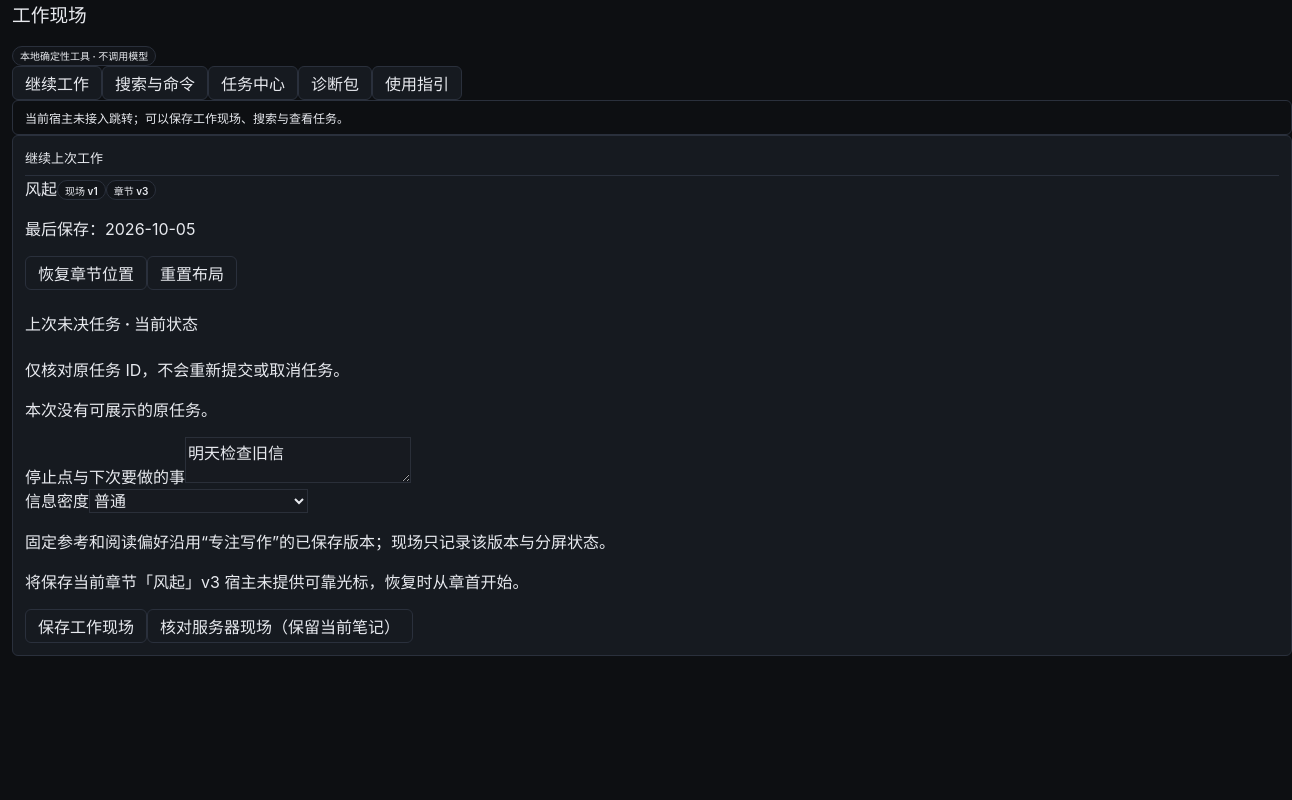
real workspace tools UI › refreshes a conflict without overwriting the pending stopping note
Expected: the text "现场 v1" is shown, [57,180,106,200]
Replace the text in the text box labelled "停止点与下次要做的事" with "我的冲突候选". click: [298, 460]
box: [185,437,411,483]
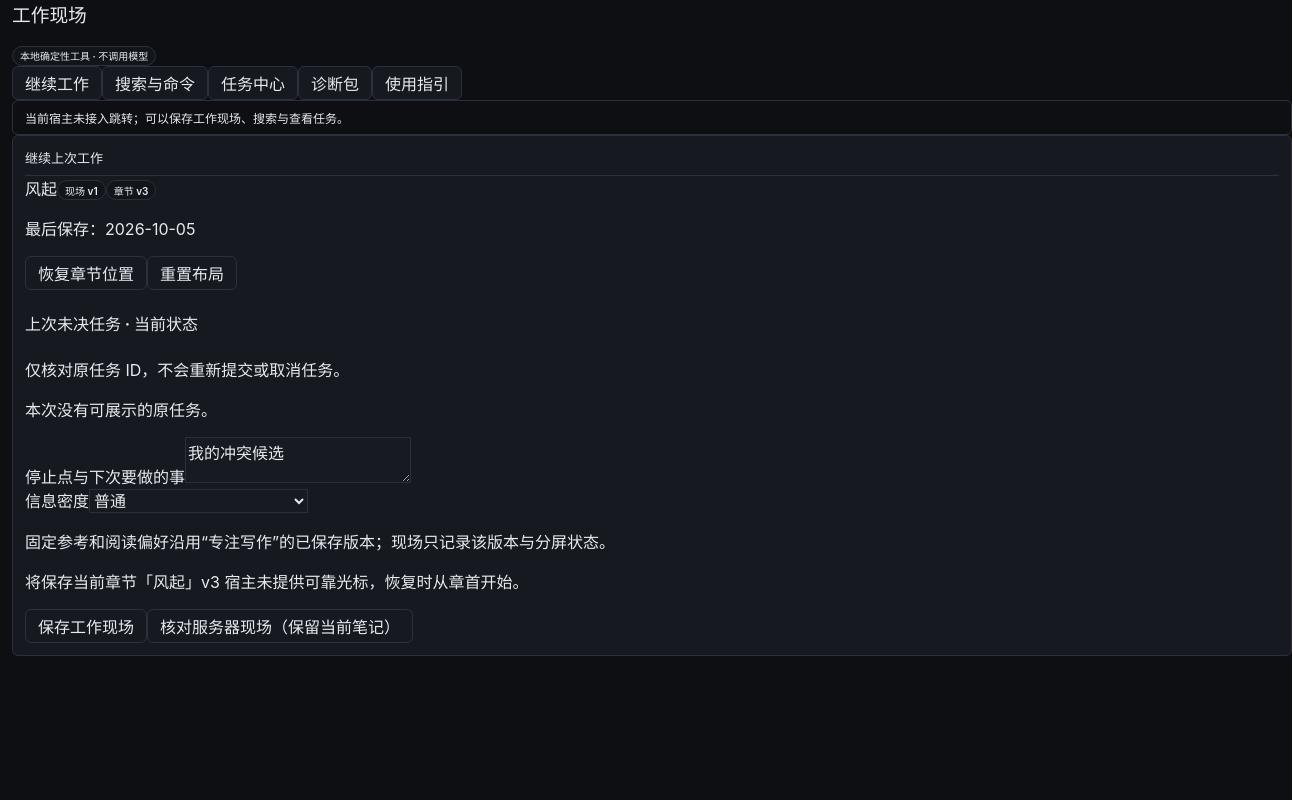
Click the button "保存工作现场". click: [86, 626]
box: [25,609,147,643]
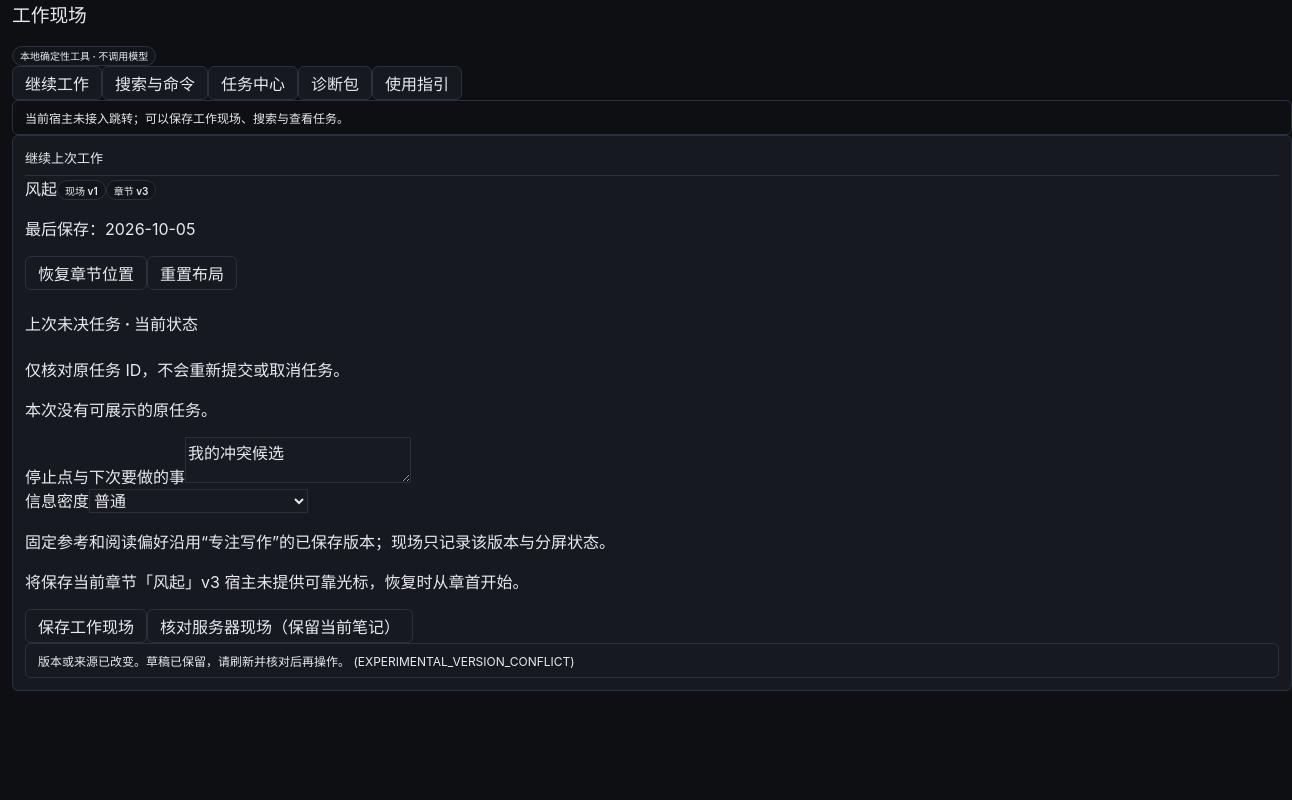
Expected: the message "版本或来源已改变。草稿已保留，请刷新并核对后再操作。 (EXPERIMENTAL_VERSION_CONFLICT)" is shown, [25,643,1279,678]
Click the button "核对服务器现场（保留当前笔记）". click: [280, 626]
box: [147,609,413,643]
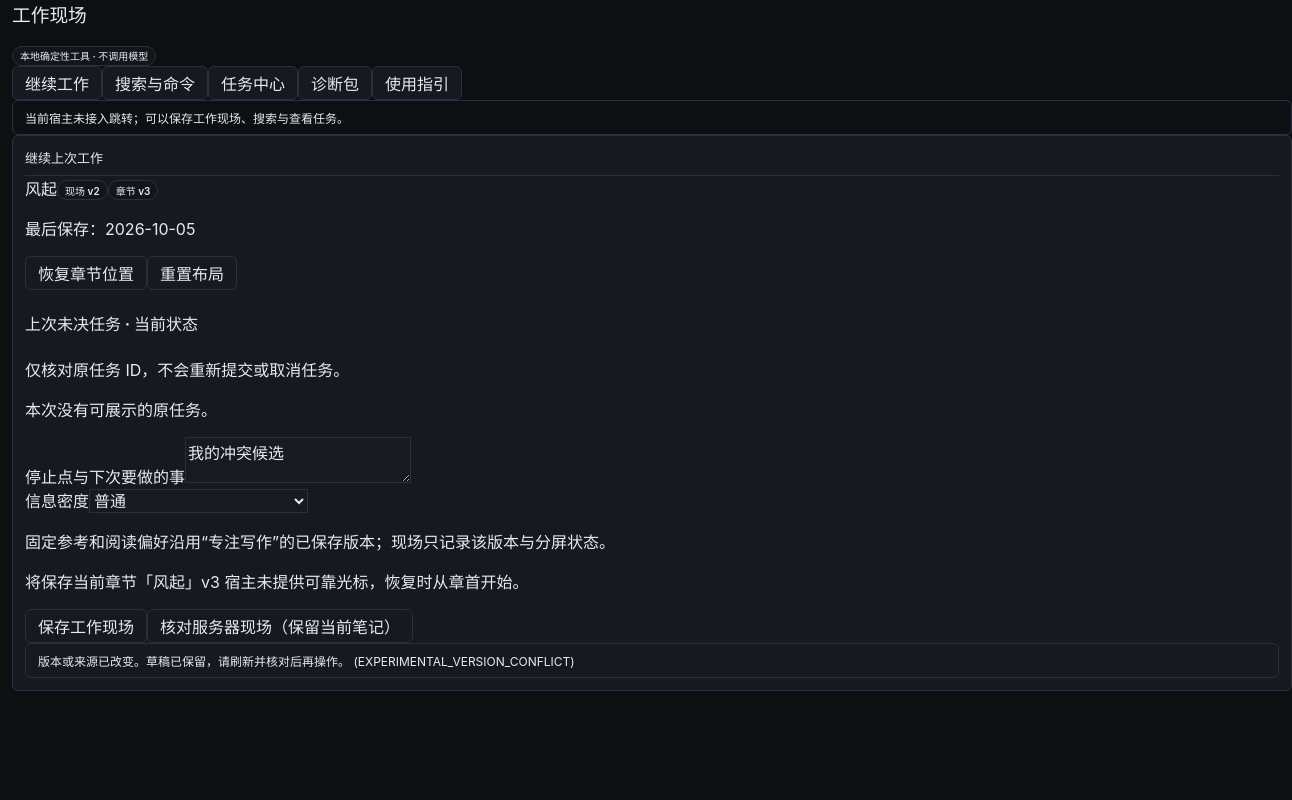
Expected: the text "现场 v2" is shown, [57,180,108,200]
